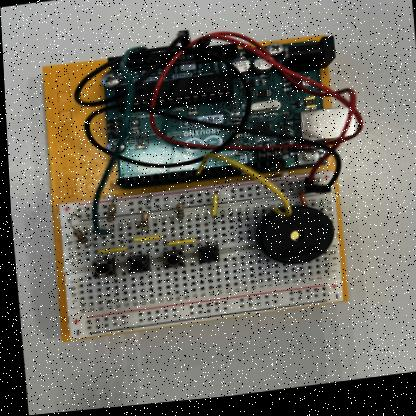5V: (149, 40, 334, 155)
ARDUINO: (103, 44, 330, 191)
Breadboard: (56, 176, 341, 341)
Button: (88, 261, 112, 280), (124, 257, 147, 276), (160, 253, 182, 272), (195, 249, 216, 268)
GND: (79, 106, 237, 170), (72, 49, 171, 108)
Long wire: (194, 157, 290, 223)
Piezo: (252, 212, 331, 270)
Resistor: (137, 197, 150, 237), (70, 230, 86, 249), (103, 200, 114, 225), (173, 199, 182, 227)
Short wire: (93, 249, 125, 256), (164, 242, 194, 249), (130, 238, 162, 244), (209, 198, 215, 222), (296, 196, 304, 212)
